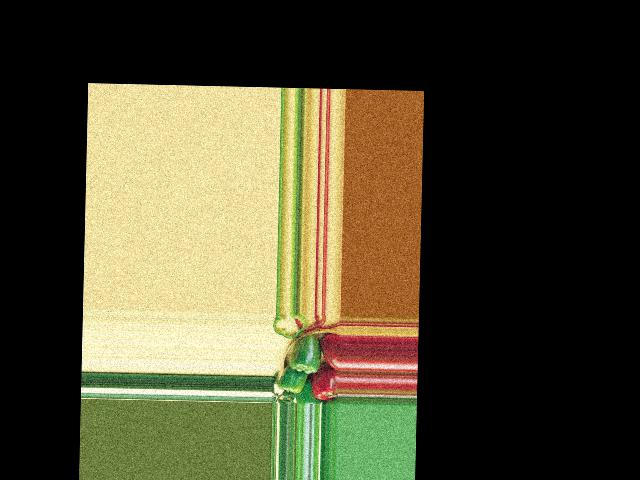bell_pepper: (322, 333, 339, 371)
